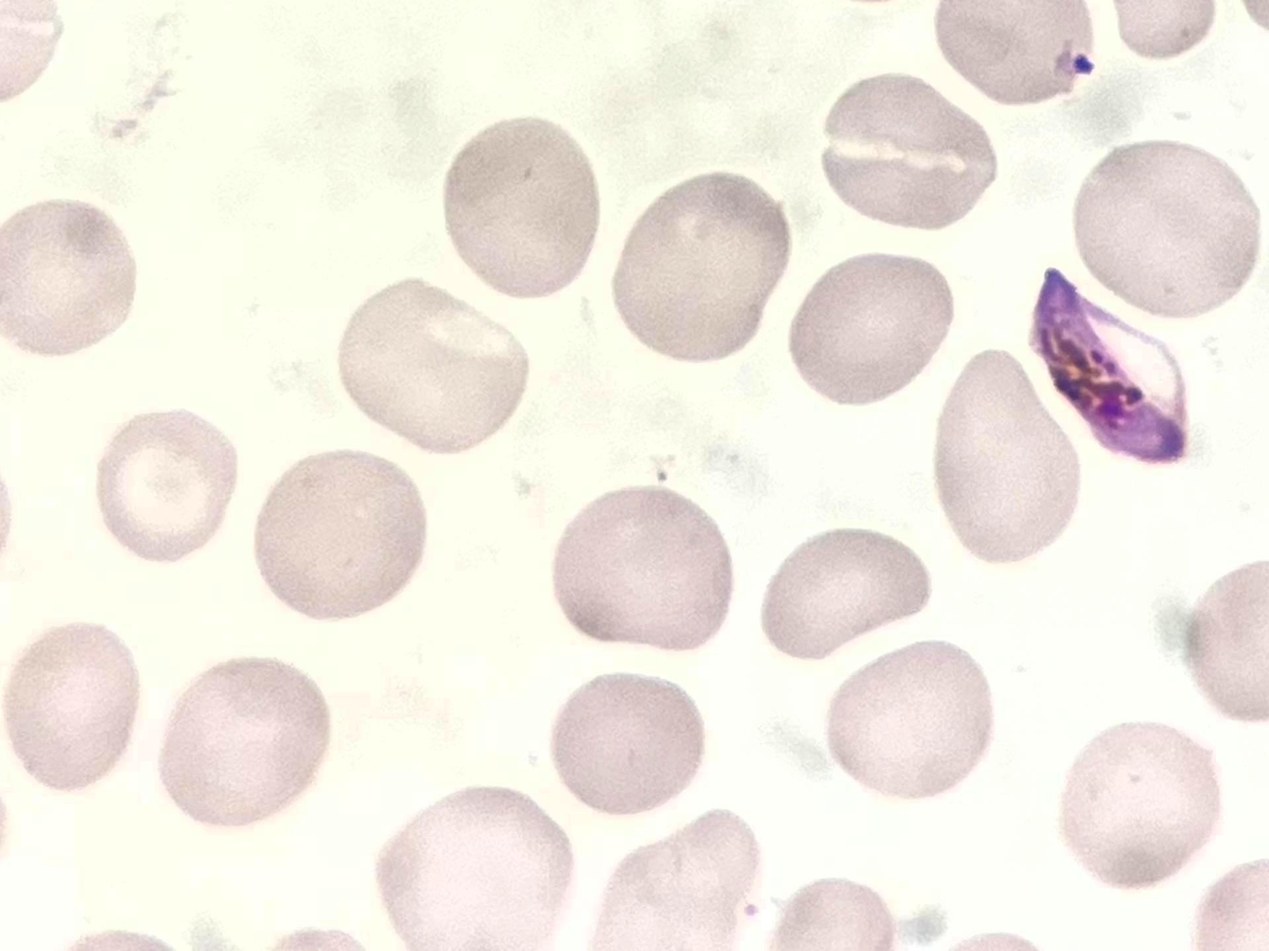Infected: (1031, 263, 1196, 468), (930, 0, 1102, 104)
Uninfected: (611, 169, 790, 366), (337, 275, 528, 453), (1072, 142, 1259, 320), (375, 787, 576, 951), (937, 346, 1081, 567), (552, 481, 732, 653), (155, 656, 334, 826), (252, 451, 429, 622), (441, 111, 602, 297), (823, 71, 992, 231), (828, 640, 991, 800), (788, 251, 958, 403), (1058, 724, 1215, 886), (593, 805, 759, 951), (0, 620, 139, 791), (760, 527, 933, 660), (93, 408, 239, 559), (552, 671, 707, 812), (0, 197, 137, 355)
